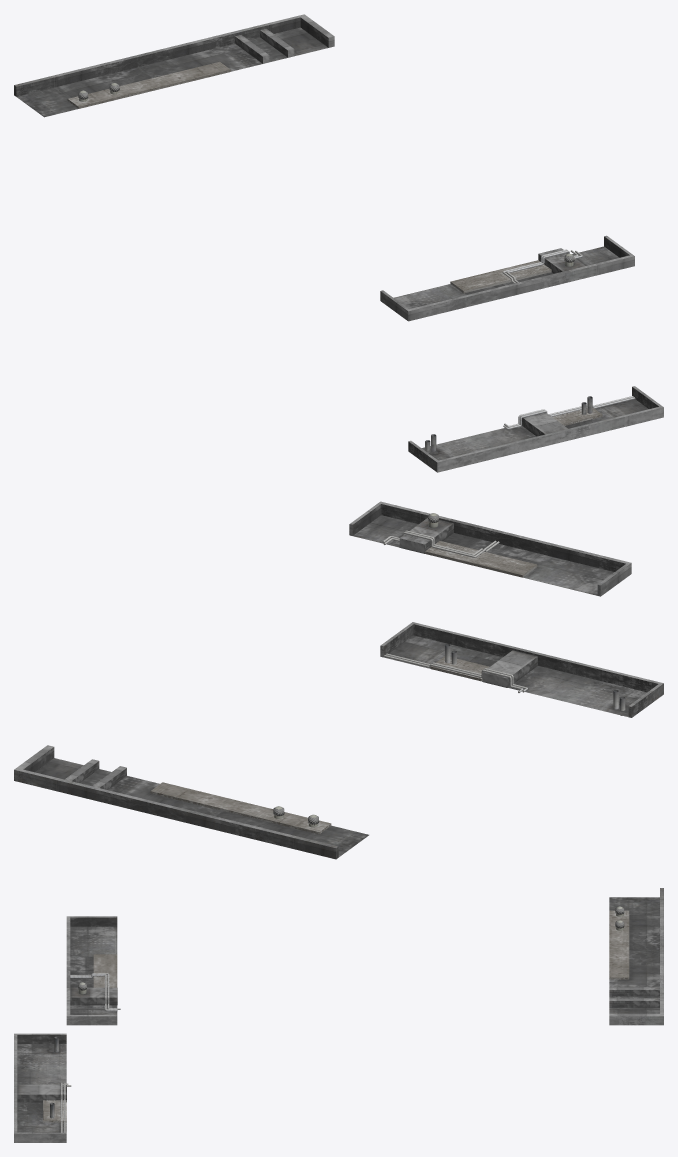
The model's file is roof02.fbx.
3 renders of one model, top to bottom at view 1: azimuth 30°, elevation 25°; view 2: azimuth 150°, elevation 25°; view 3: azimuth 270°, elevation 25°, orthographic. The views are drawn at different scales.
Visible parts, largest first — view 1: Object259, Object255, Object256, Box1586, Box171, Box1491; view 2: Object255, Object259, Object256, Box1586, Box171, Box1491, Box148, polymsh8, Box1587, polymsh7; view 3: Object259, Object255, Object256, Box1586, Box1491, Box148, Box171, Box1487, Box1488, Box1587.
Part boxes in pixels (x1,y1,x2,y2): Object259: (14,14,334,117); Object255: (408,386,663,472); Object256: (380,235,634,321); Box1586: (67,61,230,108); Box171: (450,260,551,293); Box1491: (522,412,567,436); Object255: (380,622,663,717); Object259: (14,745,368,859); Object256: (349,501,631,596); Box1586: (150,782,331,834); Box171: (425,541,537,577); Box1491: (482,650,537,687); Box148: (399,518,453,553); polymsh8: (384,653,527,692); Box1587: (430,656,489,681); polymsh7: (382,530,499,557); Object259: (609,888,663,1025); Object255: (14,1033,66,1142); Object256: (66,916,117,1025); Box1586: (609,910,629,979); Box1491: (17,1084,66,1102); Box148: (70,987,117,1005); Box171: (93,954,117,987); Box1487: (609,987,659,996); Box1488: (609,998,659,1007); Box1587: (43,1100,66,1122).
Size of the model in its own units: 27.17 by 13.78 by 58.24.
